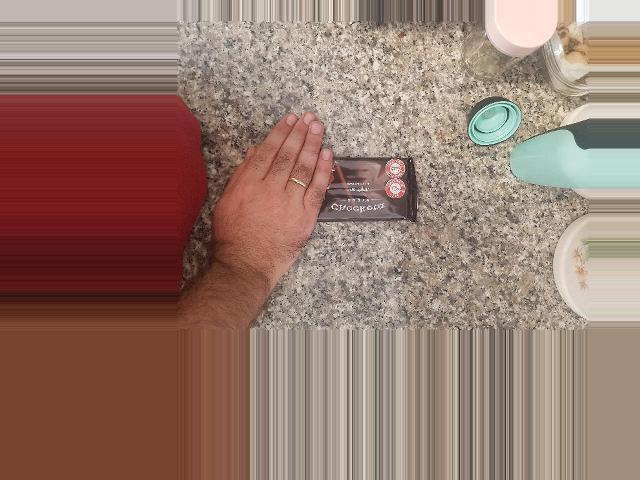chocolate: (264, 149, 421, 235)
